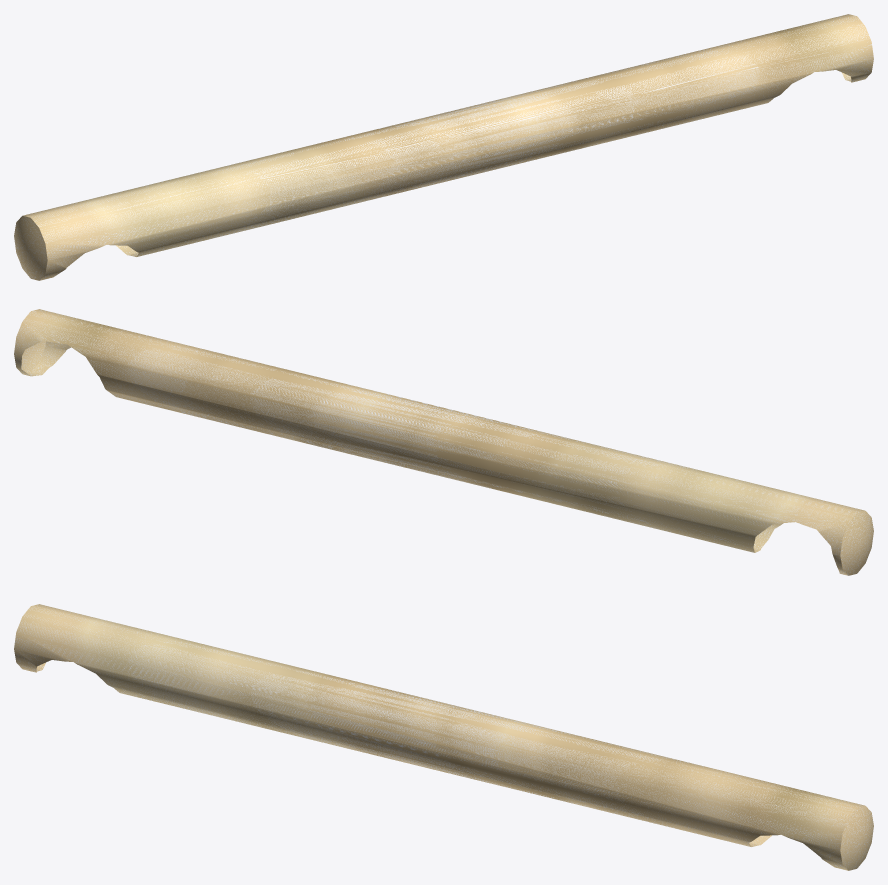
Rendered from original-33.obj.
3 views of the same model, one above another, from view 1: azimuth 30°, elevation 25°; view 2: azimuth 150°, elevation 25°; view 3: azimuth 330°, elevation 25° (orthographic).
Visible parts, largest first — view 1: Group4/mesh8/mesh8-geometry#mesh8-geometry; view 2: Group4/mesh8/mesh8-geometry#mesh8-geometry; view 3: Group4/mesh8/mesh8-geometry#mesh8-geometry.
Boxes of the visible parts, x1,y1,x2,y2 form: Group4/mesh8/mesh8-geometry#mesh8-geometry: [14, 14, 873, 280]; Group4/mesh8/mesh8-geometry#mesh8-geometry: [14, 309, 873, 575]; Group4/mesh8/mesh8-geometry#mesh8-geometry: [14, 604, 873, 870].
Size of the model in its own units: 0.3267 by 0.0227 by 0.0227.
